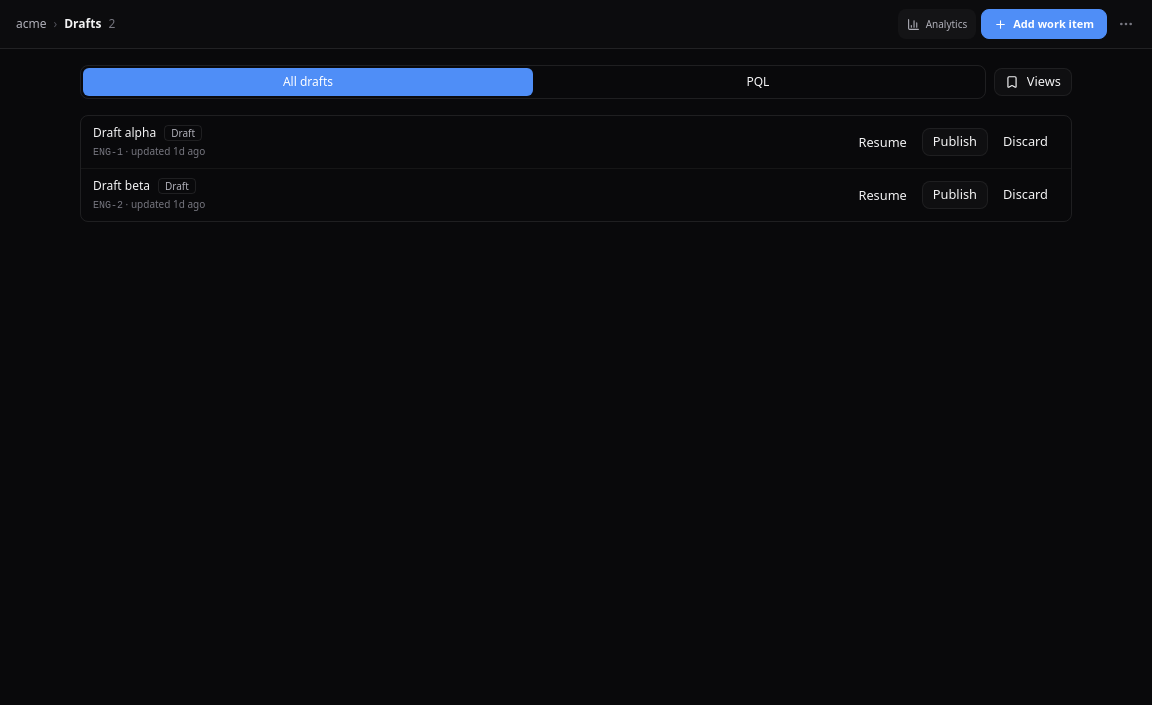
Test: drafts saved views (C111T4) › the editor shows the corrected save hint now that the menu is the save path
Check: the link "Draft alpha" is shown, box [93,124,156,142]
Check: the link "Draft beta" is shown, box [93,177,150,195]
Click the button "PQL" at [758, 82], box [533,68,983,96]
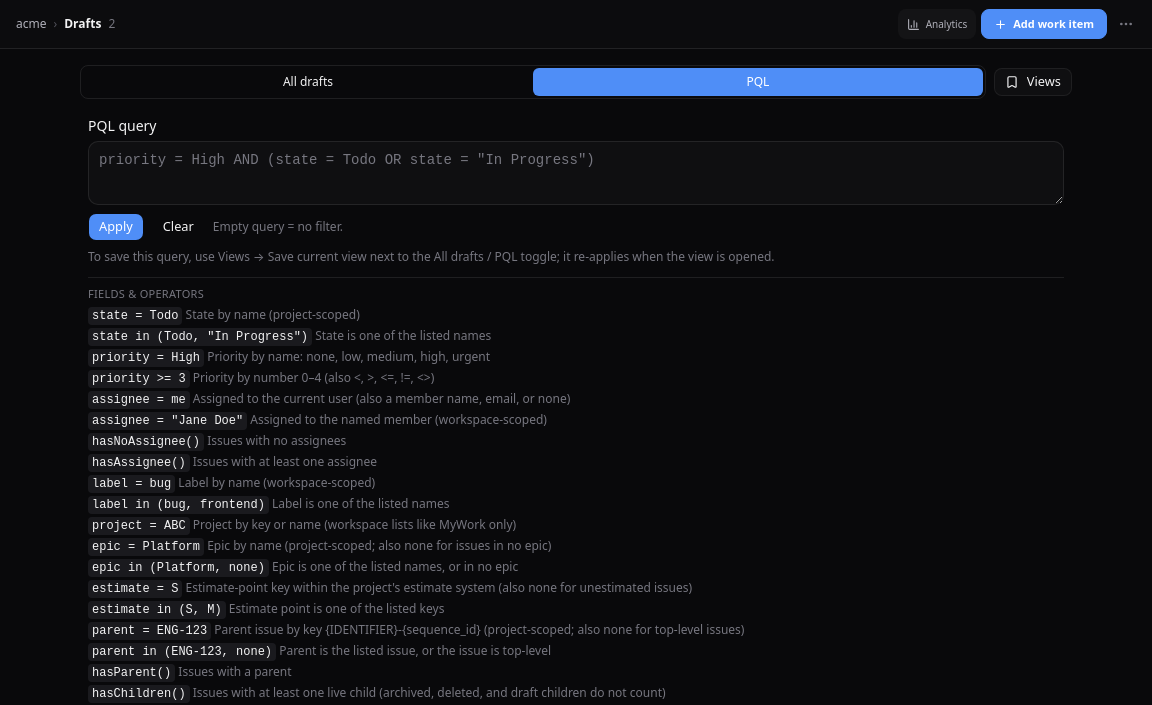
Check: the text box labelled "PQL query" is shown, box [88,141,1064,205]
Check: the text "To save this query, use Views → Save current view next to the All drafts / PQL toggle; it re-applies when the view is op" is shown, box [88,248,774,265]
